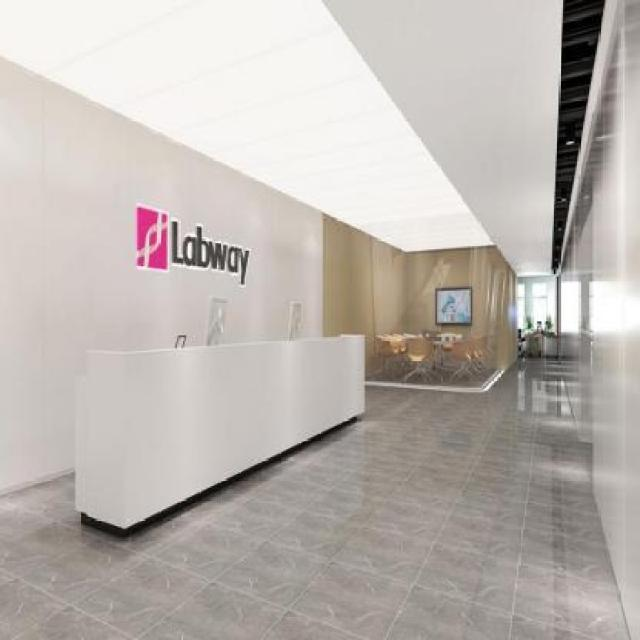frontdesk: (75, 289, 368, 544)
